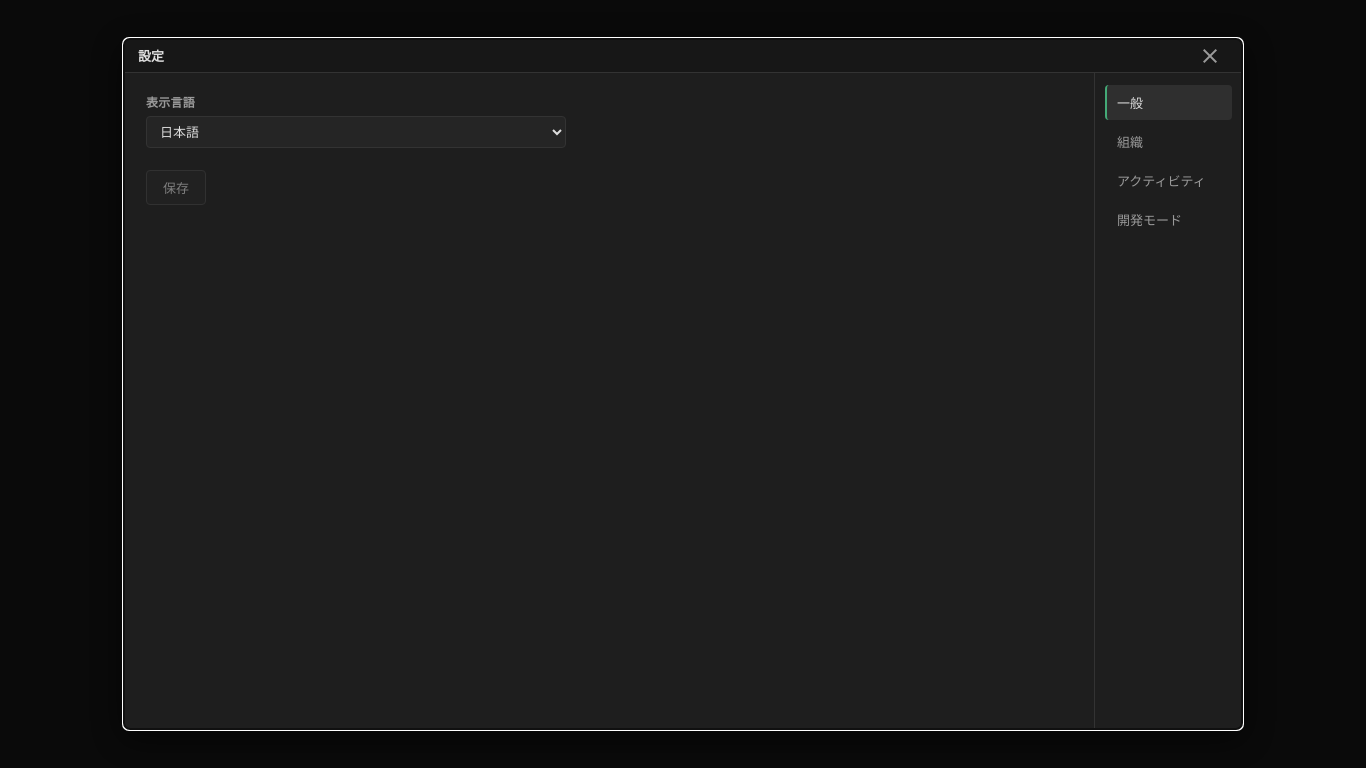
it: SettingsModal Organizations tab › labels the color picker by the org alias when one is set
The image size is (1366, 768).
Click the tab "組織" at [1168, 142], box [1105, 124, 1232, 159]
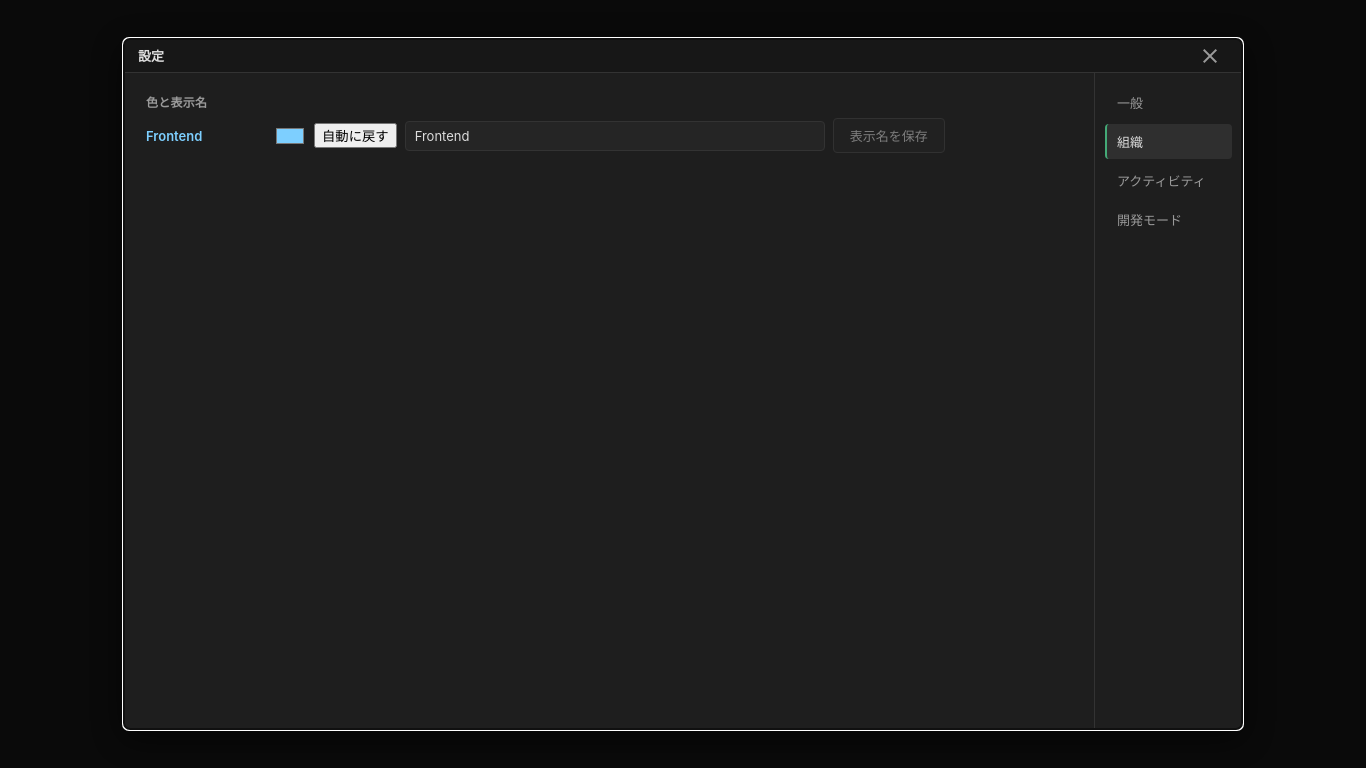
Result: the colour field named "Frontend の色" is shown at [274, 124, 306, 148]
